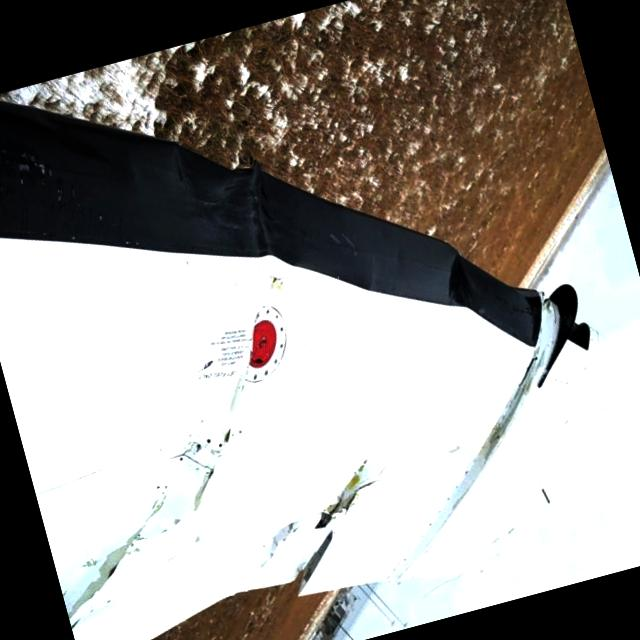crack: (247, 454, 400, 604), (42, 487, 194, 620), (158, 360, 284, 508)
